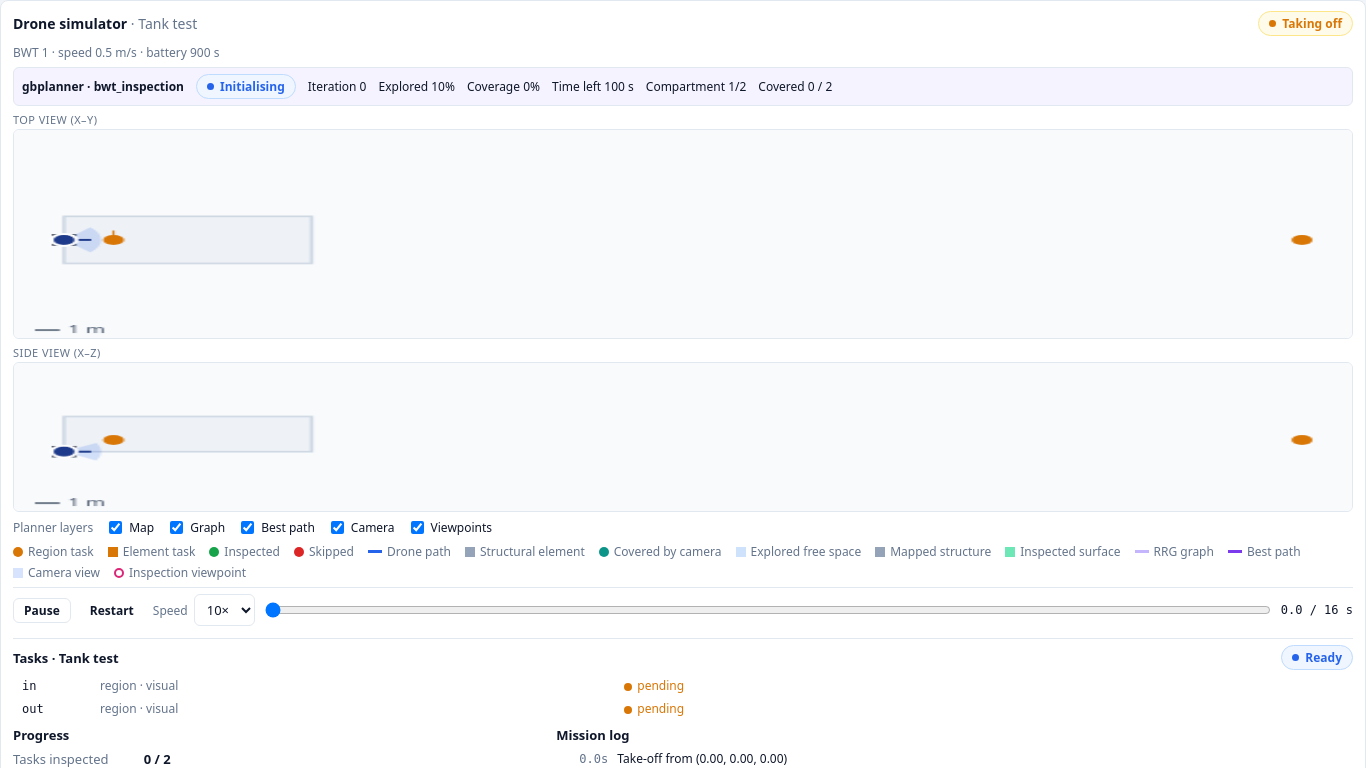
Test: SimulatorPanel › should show the planner status strip at the playback time
Step 1. Set the slider named "Mission time" to "2" → [399, 610], box [265,602,1271,618]
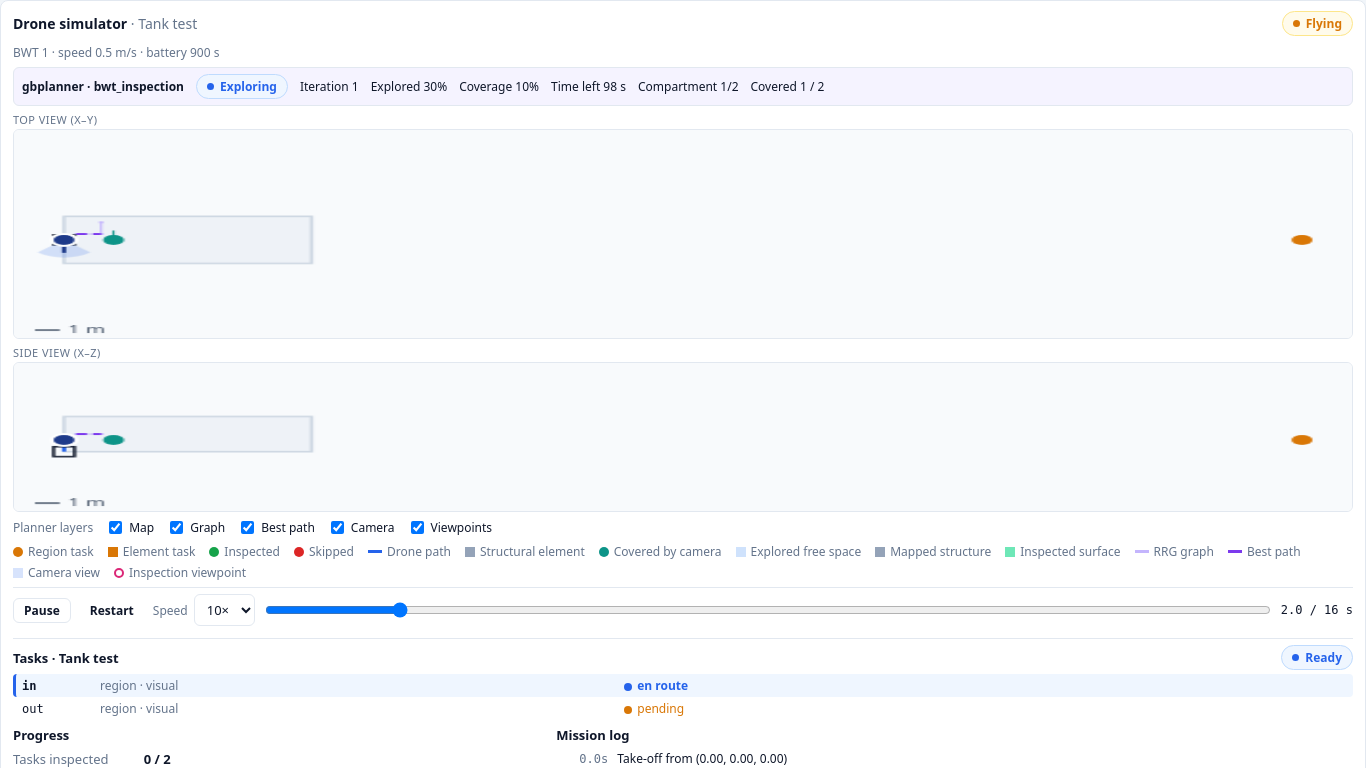
Check: the element with test id "planner-status" shows "Exploring", box [220,78,277,95]
Check: the element with test id "planner-status" shows "Iteration 1", box [13,67,1353,106]
Check: the element with test id "planner-status" shows "Explored 30%", box [13,67,1353,106]
